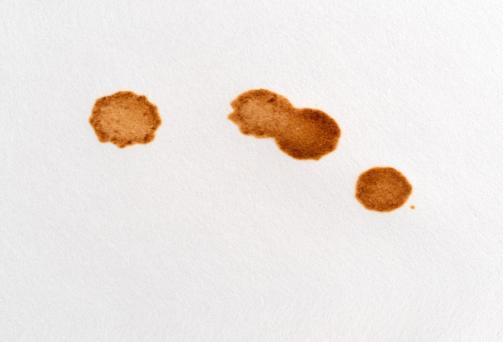stain: (223, 85, 345, 163), (80, 88, 166, 148), (349, 167, 418, 213)
